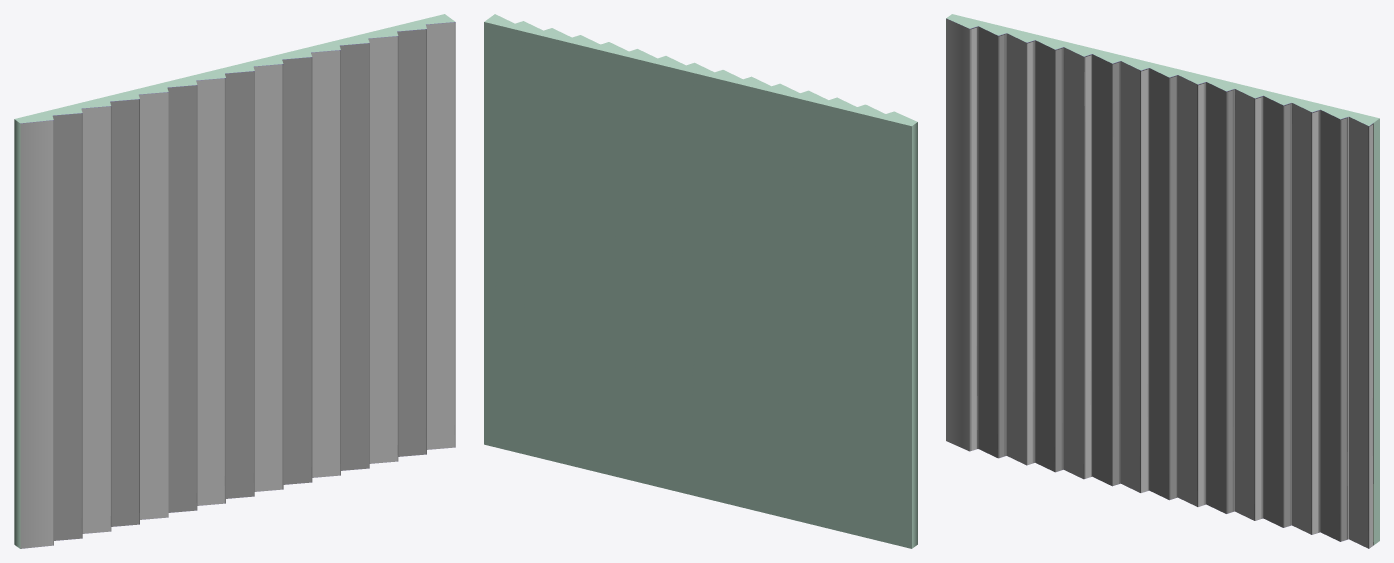
Rendered from storefront-inner.fbx.
The picture shows the model from 3 angles, left to right: view 1: azimuth 30°, elevation 25°; view 2: azimuth 150°, elevation 25°; view 3: azimuth 330°, elevation 25°; orthographic projection.
Parts seen in each view (by area): view 1: pCube1; view 2: pCube1; view 3: pCube1.
Part boxes in pixels (<box>): pCube1: <box>14,14,455,548</box>; pCube1: <box>484,14,917,548</box>; pCube1: <box>946,14,1379,548</box>.
Bounding box in the file's own units: 82.95 × 3.64 × 78.34.
